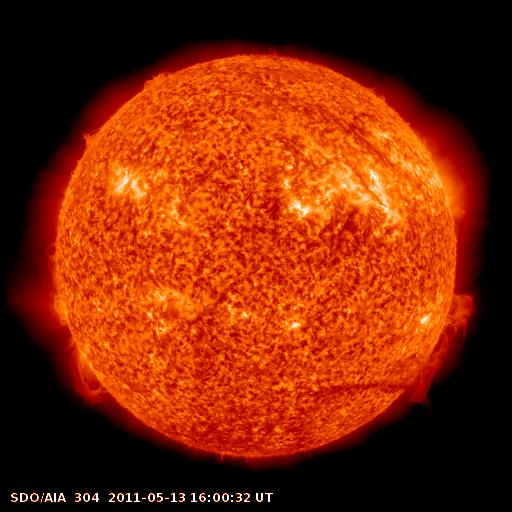prominence: (395, 285, 488, 417), (62, 335, 117, 410), (38, 239, 78, 328), (69, 119, 112, 156), (139, 65, 178, 98)
